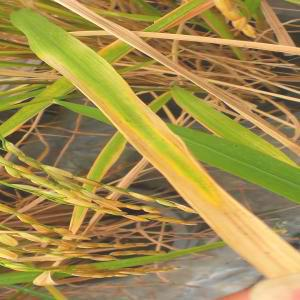2 BacterialBlight: (91, 65, 183, 178)
